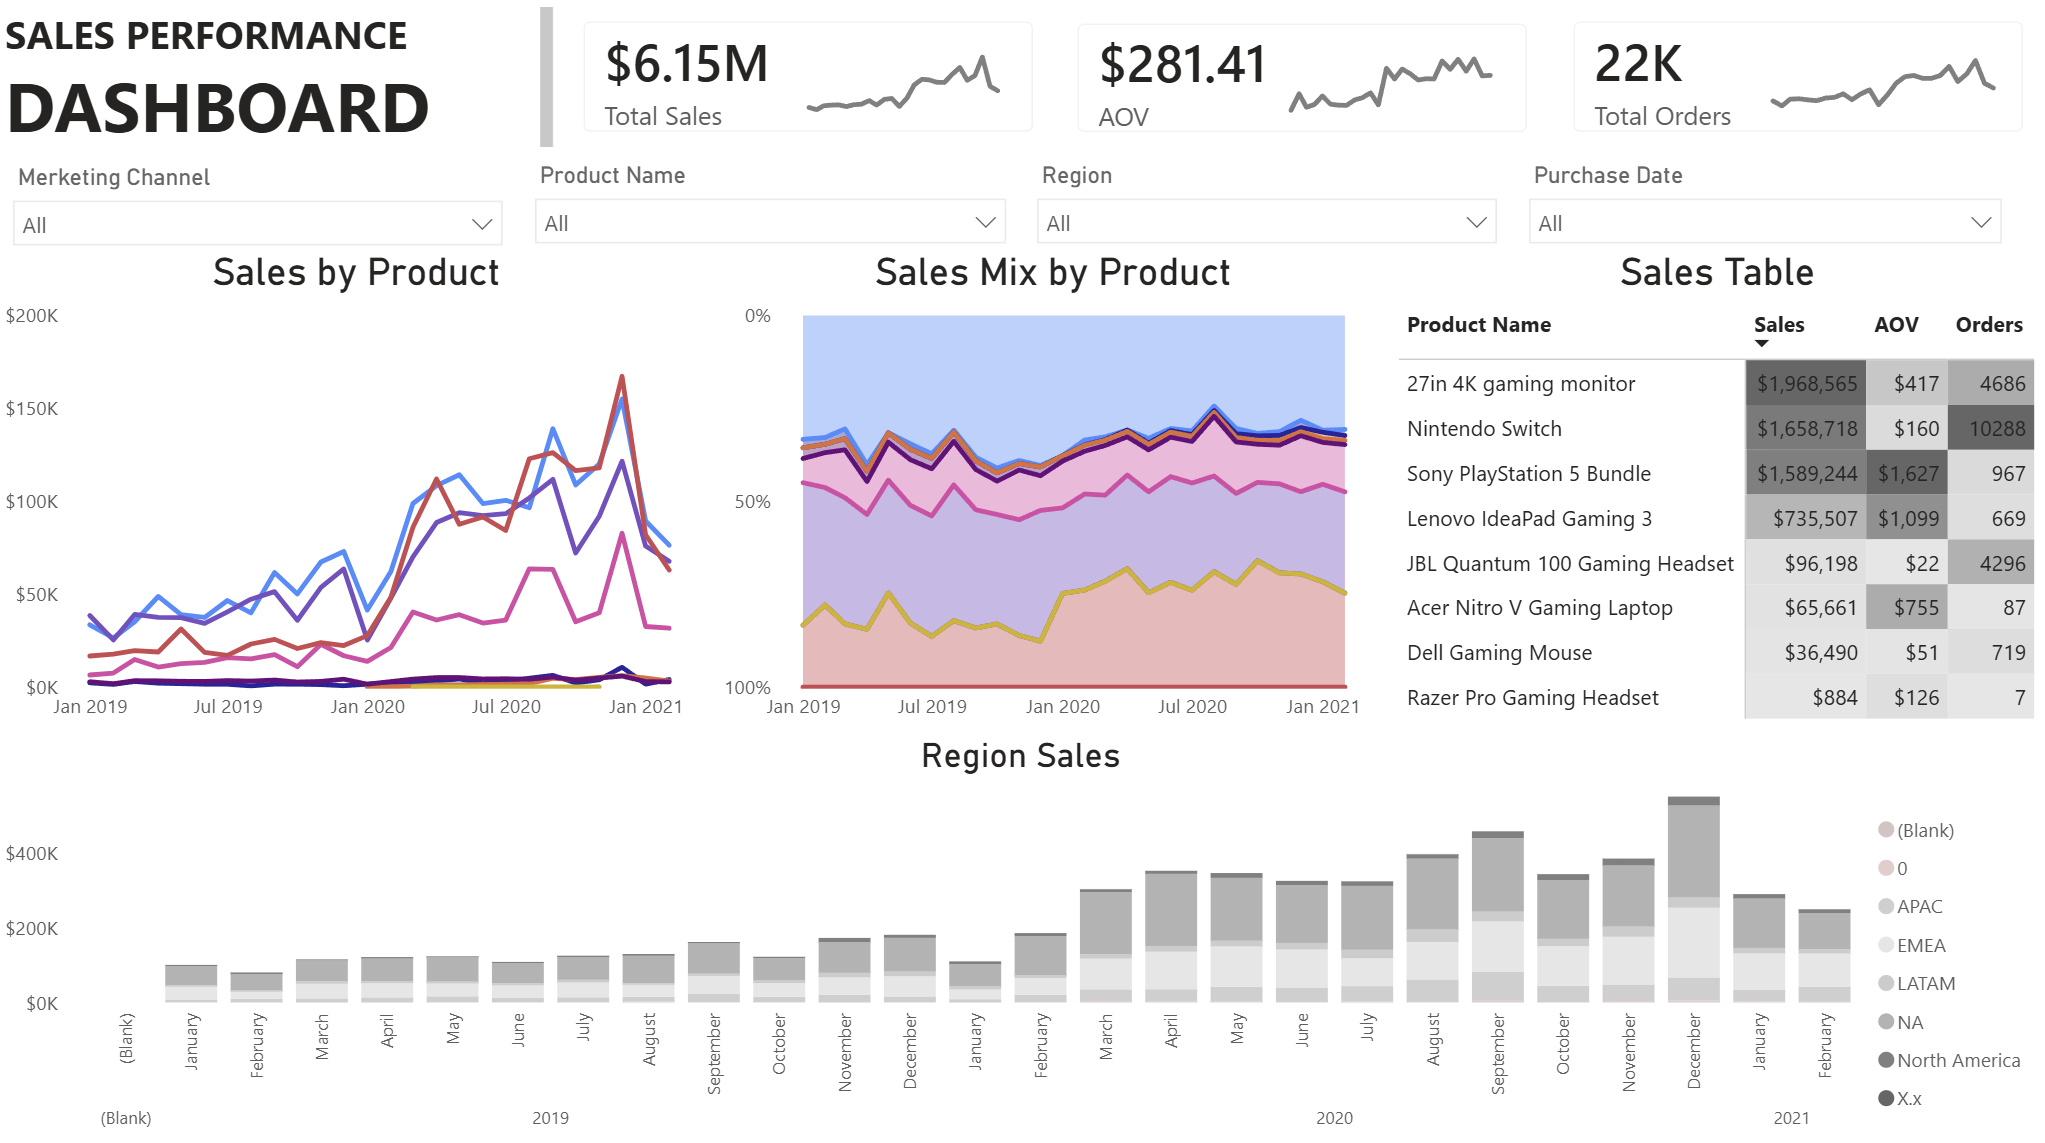

This screenshot's page, from the dashboard's own definition file:
{"tool":"powerbi","page":{"name":"dashboard","canvas":[1280,720],"ordinal":0},"visuals":[{"type":"lineChart","title":"Sales by Product","fields":{"Category":["orders_cleaned.PURCHASE_TS_CLEANED.Variation.Date Hierarchy.Year","orders_cleaned.PURCHASE_TS_CLEANED.Variation.Date Hierarchy.Month"],"Series":["orders_cleaned.PRODUCT_NAME_CLEANED"],"Y":["Sum(orders_cleaned.USD_PRICE)"]},"box":[0,155.9,449.1,303.8],"z":0},{"type":"hundredPercentStackedAreaChart","title":"Sales Mix by Product","fields":{"Category":["orders_cleaned.PURCHASE_TS_CLEANED.Variation.Date Hierarchy.Year","orders_cleaned.PURCHASE_TS_CLEANED.Variation.Date Hierarchy.Month"],"Series":["orders_cleaned.PRODUCT_NAME_CLEANED"],"Y":["Sum(orders_cleaned.USD_PRICE)"]},"box":[449.1,155.9,422.7,303.8],"z":1000},{"type":"pivotTable","title":"Sales Table","fields":{"Rows":["orders_cleaned.PRODUCT_NAME_CLEANED"],"Values":["Sum(orders_cleaned.USD_PRICE)","Avg(orders_cleaned.USD_PRICE)","Count(orders_cleaned.ORDER_ID)"]},"box":[871.8,155.9,408.2,303.8],"z":2000},{"type":"columnChart","title":"Region Sales","fields":{"Category":["orders_cleaned.PURCHASE_TS_CLEANED.Variation.Date Hierarchy.Year","orders_cleaned.PURCHASE_TS_CLEANED.Variation.Date Hierarchy.Month"],"Series":["orders_cleaned.REGION"],"Y":["Sum(orders_cleaned.USD_PRICE)"]},"box":[0,459.7,1280,260.2],"z":3000},{"type":"cardVisual","fields":{"Data":["Sum(orders_cleaned.USD_PRICE)"]},"box":[352.7,0,309.1,97.8],"z":4000},{"type":"cardVisual","fields":{"Data":["Avg(orders_cleaned.USD_PRICE)"]},"box":[661.8,1.3,309.1,96.4],"z":5000},{"type":"cardVisual","fields":{"Data":["Count(orders_cleaned.ORDER_ID)"]},"box":[970.9,0,309.1,97.8],"z":6000},{"type":"lineChart","fields":{"Category":["orders_cleaned.PURCHASE_TS_CLEANED.Variation.Date Hierarchy.Year","orders_cleaned.PURCHASE_TS_CLEANED.Variation.Date Hierarchy.Month"],"Y":["Sum(orders_cleaned.USD_PRICE)"]},"box":[492.7,18.5,147.9,62.1],"z":7000},{"type":"lineChart","fields":{"Category":["orders_cleaned.PURCHASE_TS_CLEANED.Variation.Date Hierarchy.Year","orders_cleaned.PURCHASE_TS_CLEANED.Variation.Date Hierarchy.Month"],"Y":["Avg(orders_cleaned.USD_PRICE)"]},"box":[793.9,17.2,154.6,62.1],"z":8000},{"type":"lineChart","fields":{"Category":["orders_cleaned.PURCHASE_TS_CLEANED.Variation.Date Hierarchy.Year","orders_cleaned.PURCHASE_TS_CLEANED.Variation.Date Hierarchy.Month"],"Y":["CountNonNull(orders_cleaned.ORDER_ID)"]},"box":[1095.1,17.2,167.8,62.1],"z":9000},{"type":"textbox","box":[0,0,352.7,97.8],"z":10000},{"type":"slicer","fields":{"Values":["orders_cleaned.MARKETING_CHANNEL_CLEANED"]},"box":[0,97.9,326,58.8],"z":11000},{"type":"slicer","fields":{"Values":["orders_cleaned.PRODUCT_NAME_CLEANED"]},"box":[326,96.8,314.5,58.8],"z":12000},{"type":"slicer","fields":{"Values":["orders_cleaned.REGION"]},"box":[640.5,96.8,307.6,58.8],"z":12001},{"type":"slicer","fields":{"Values":["orders_cleaned.PURCHASE_TS_CLEANED"]},"box":[948.1,96.8,315.6,58.8],"z":12002}]}

Visuals, with their boxes in screenshot pixels (x1, y1, x2, y2), scaled from the page's 1280x720 canvas onto the 2045x1143 screenshot:
"Sales by Product" lineChart: 0/247/718/730
"Sales Mix by Product" hundredPercentStackedAreaChart: 718/247/1393/730
"Sales Table" pivotTable: 1393/247/2044/730
"Region Sales" columnChart: 0/730/2044/1142
cardVisual - Sum(orders_cleaned.USD_PRICE): 563/0/1057/155
cardVisual - Avg(orders_cleaned.USD_PRICE): 1057/2/1551/155
cardVisual - Count(orders_cleaned.ORDER_ID): 1551/0/2044/155
lineChart - orders_cleaned.PURCHASE_TS_CLEANED.Variation.Date Hierarchy.Year x orders_cleaned.PURCHASE_TS_CLEANED.Variation.Date Hierarchy.Month: 787/29/1023/128
lineChart - orders_cleaned.PURCHASE_TS_CLEANED.Variation.Date Hierarchy.Year x orders_cleaned.PURCHASE_TS_CLEANED.Variation.Date Hierarchy.Month: 1268/27/1515/126
lineChart - orders_cleaned.PURCHASE_TS_CLEANED.Variation.Date Hierarchy.Year x orders_cleaned.PURCHASE_TS_CLEANED.Variation.Date Hierarchy.Month: 1750/27/2018/126
textbox: 0/0/563/155
slicer - orders_cleaned.MARKETING_CHANNEL_CLEANED: 0/155/521/249
slicer - orders_cleaned.PRODUCT_NAME_CLEANED: 521/154/1023/247
slicer - orders_cleaned.REGION: 1023/154/1515/247
slicer - orders_cleaned.PURCHASE_TS_CLEANED: 1515/154/2019/247
